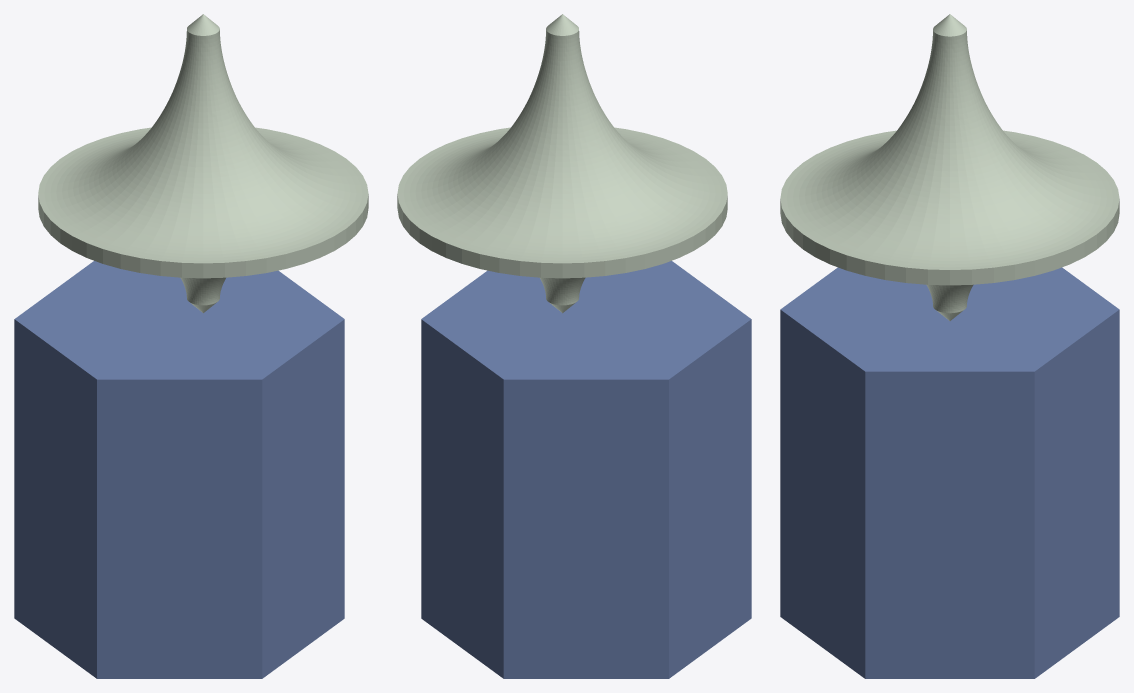
3 views of the same model, side by side, from view 1: azimuth 30°, elevation 25°; view 2: azimuth 150°, elevation 25°; view 3: azimuth 270°, elevation 25° (orthographic). The views are drawn at different scales.
Parts seen in each view (by area): view 1: Mesh_Mesh_head_geo.001_lambert2SG.001; view 2: Mesh_Mesh_head_geo.001_lambert2SG.001; view 3: Mesh_Mesh_head_geo.001_lambert2SG.001.
Boxes of the visible parts, <box> form: Mesh_Mesh_head_geo.001_lambert2SG.001: <box>14,14,368,678</box>; Mesh_Mesh_head_geo.001_lambert2SG.001: <box>397,14,751,678</box>; Mesh_Mesh_head_geo.001_lambert2SG.001: <box>780,14,1119,678</box>.
Bounding box in the file's own units: 2.03 × 4 × 2.
